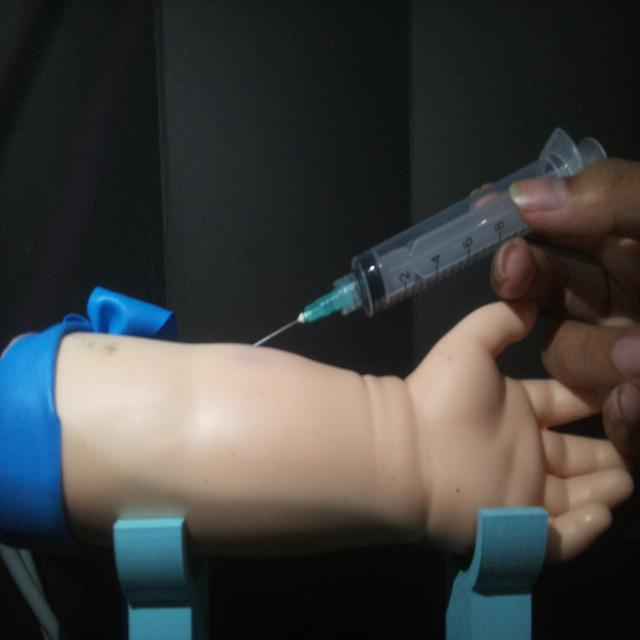29deg: (247, 124, 610, 352)
